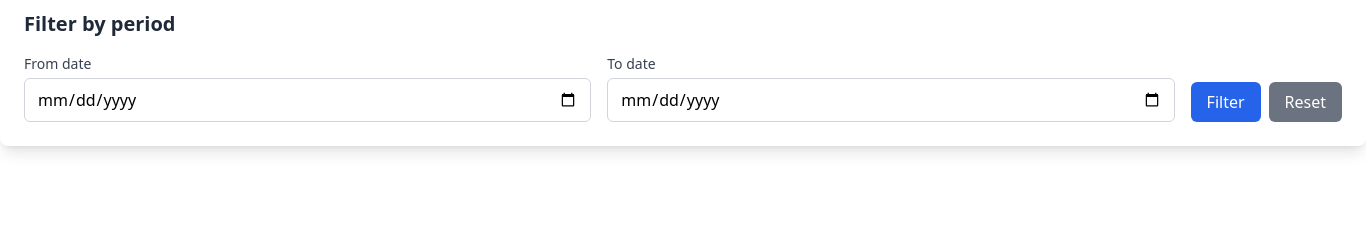
Scenario: DateRangePicker Component › should show error message when only one date is provided
The image size is (1366, 234).
Type "2024-01-01" into the date field labelled "From date" at (308, 100), box [24, 78, 591, 122]
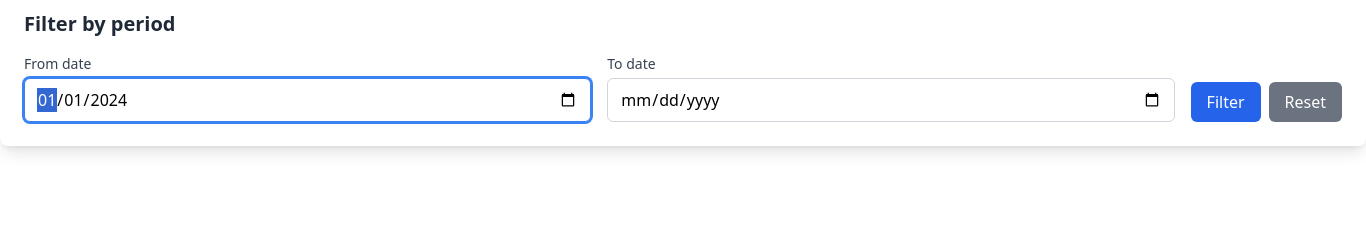
Click the button "Filter" at (1226, 102), box [1191, 82, 1261, 122]
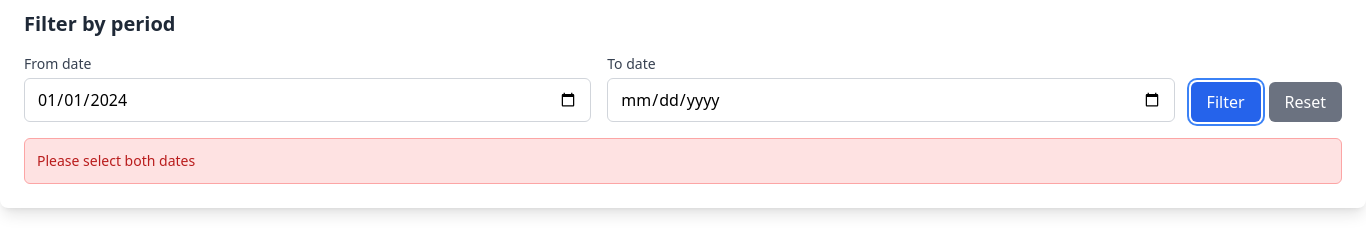
expect the text "Please select both dates" is shown: met, box [37, 151, 195, 170]
